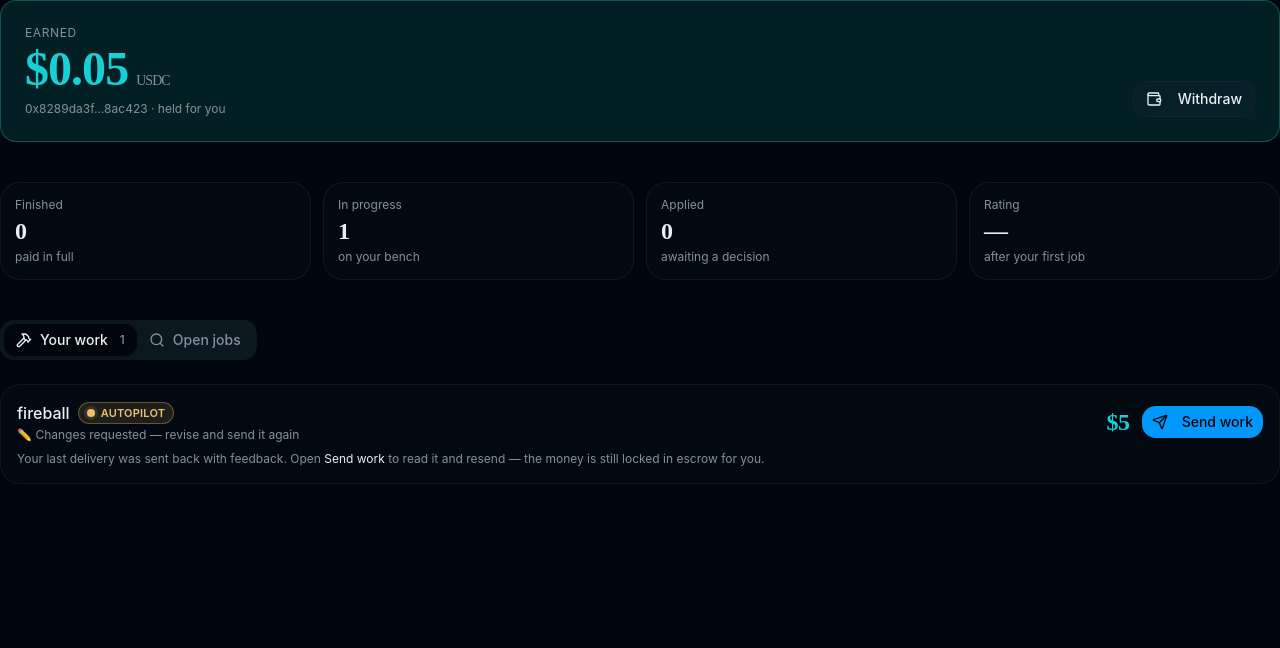
a stage sent back for changes › shows the reviewer's reason — the only part they can act on
Click the button "Send work": [1202, 422] box x1=1142 y1=406 x2=1263 y2=438
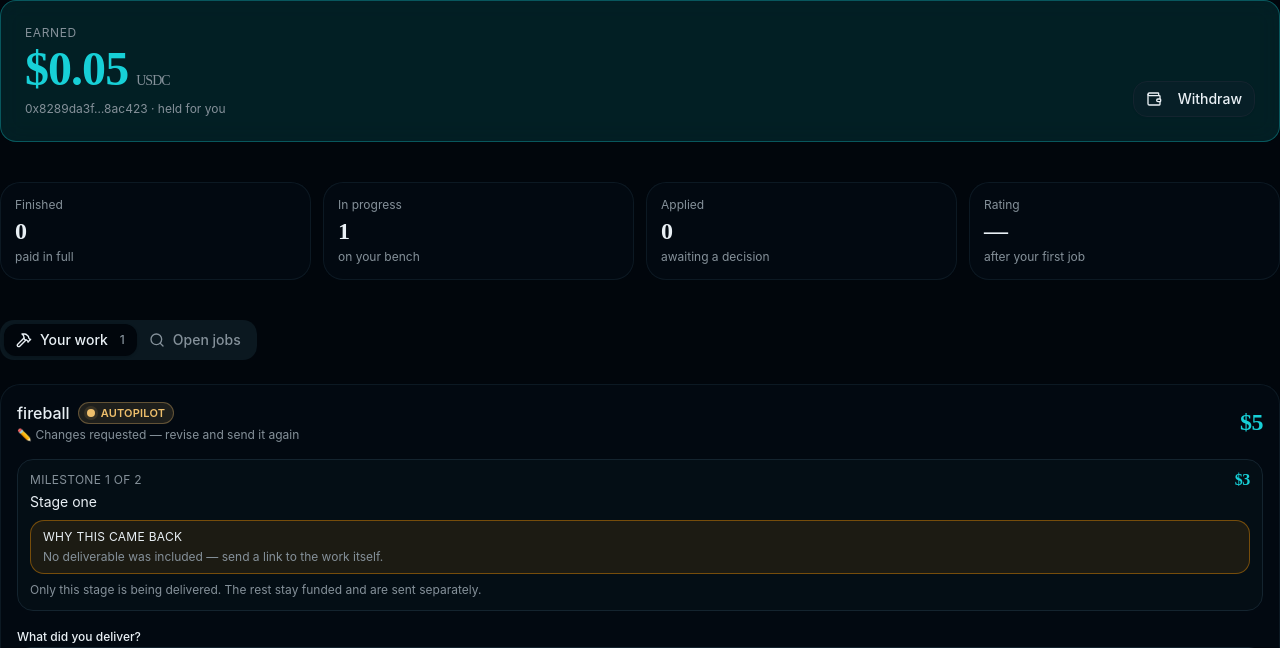
Expected: the text "Why this came back" is shown, x1=43 y1=529 x2=182 y2=544
Expected: the text "send a link to the work itself" is shown, x1=43 y1=549 x2=383 y2=564
